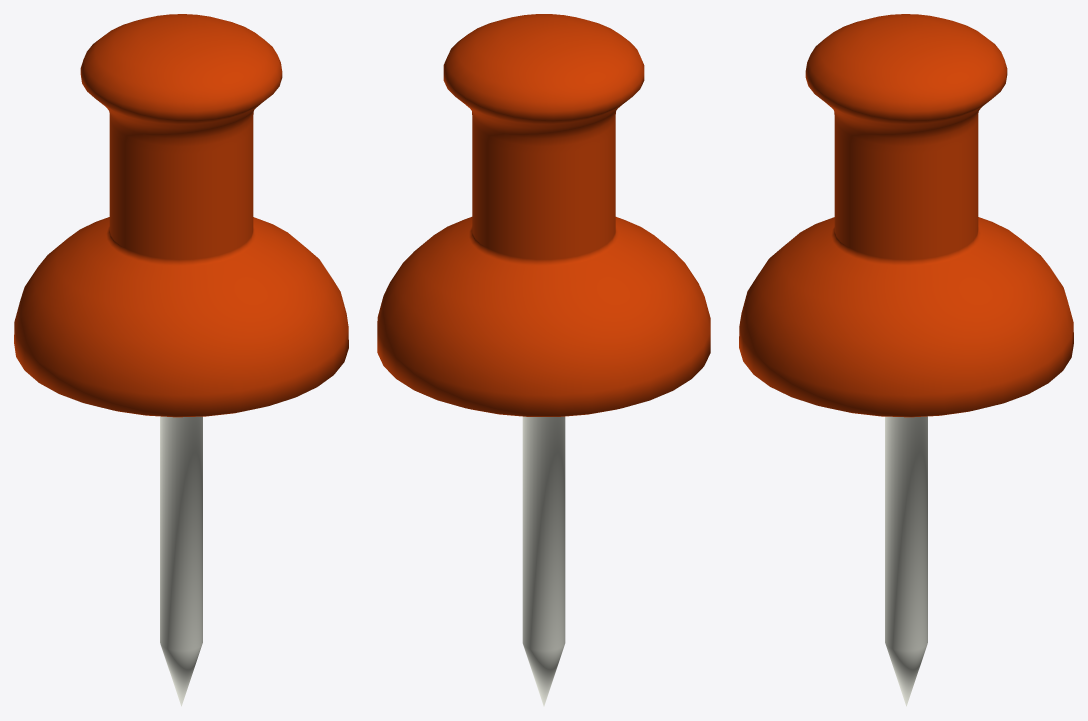
File: Pin.dae
3 renders of one model, left to right at view 1: azimuth 30°, elevation 25°; view 2: azimuth 150°, elevation 25°; view 3: azimuth 270°, elevation 25°, orthographic.
Parts seen in each view (by area): view 1: Pin; view 2: Pin; view 3: Pin.
Boxes of the visible parts, <box> form: Pin: <box>14,14,348,706</box>; Pin: <box>377,14,710,706</box>; Pin: <box>739,14,1073,706</box>.
Bounding box in the file's own units: 0.3964 × 0.8802 × 0.3964.
